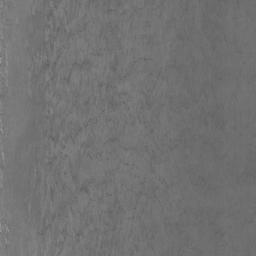Silk spot: (24, 0, 224, 256), (164, 218, 194, 256), (196, 210, 224, 246), (203, 13, 227, 51), (0, 0, 12, 67), (0, 219, 17, 249), (135, 21, 153, 48), (191, 176, 216, 190), (0, 78, 8, 99)
